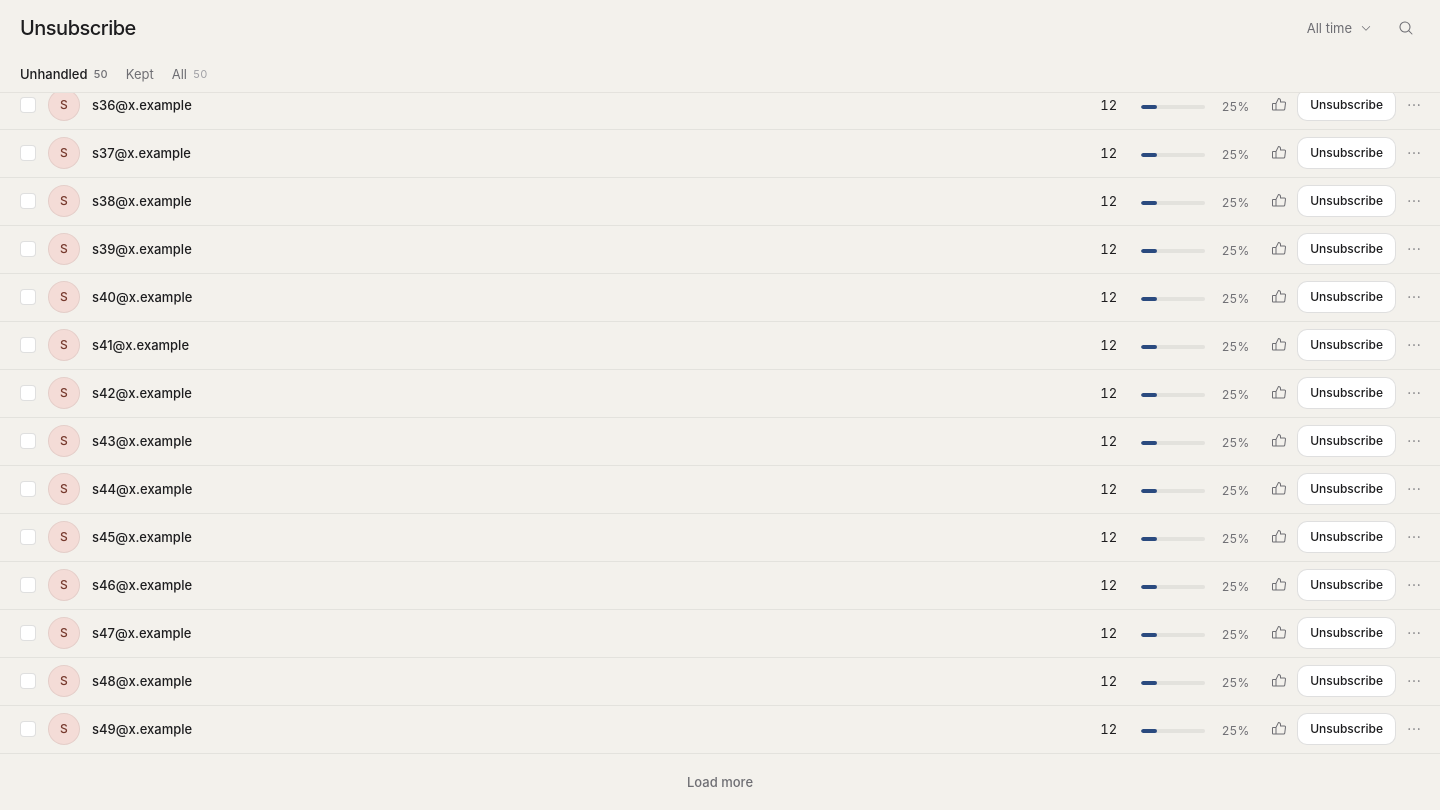
Test: BulkUnsubscribePage › searches by name or address and loads more
(page scrolled)
Click the button "Load more": (720, 782) [675, 766, 765, 798]
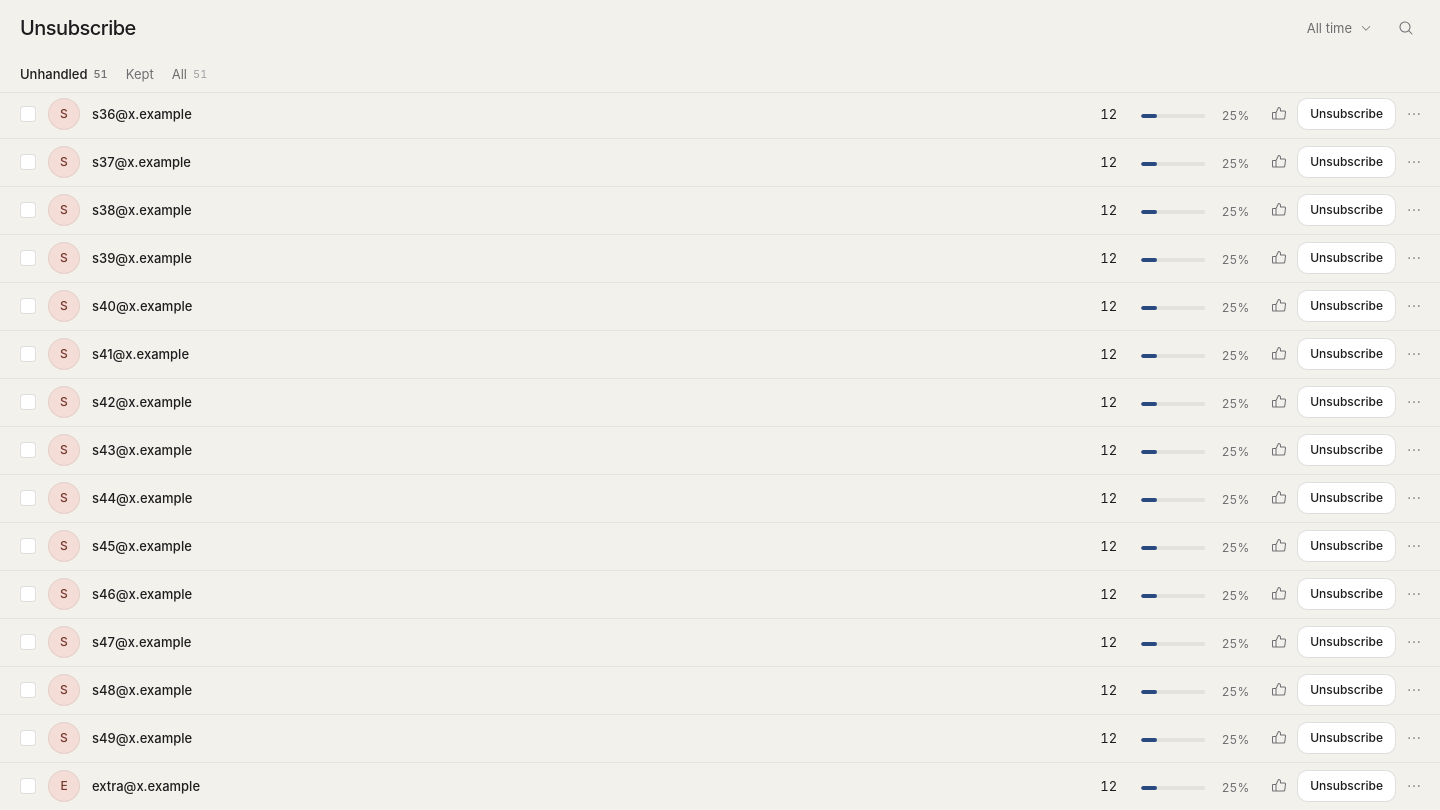
Result: the text "extra@x.example" is shown at [92, 777, 200, 795]
Click the button named "Search": (1406, 28) [1392, 14, 1420, 42]
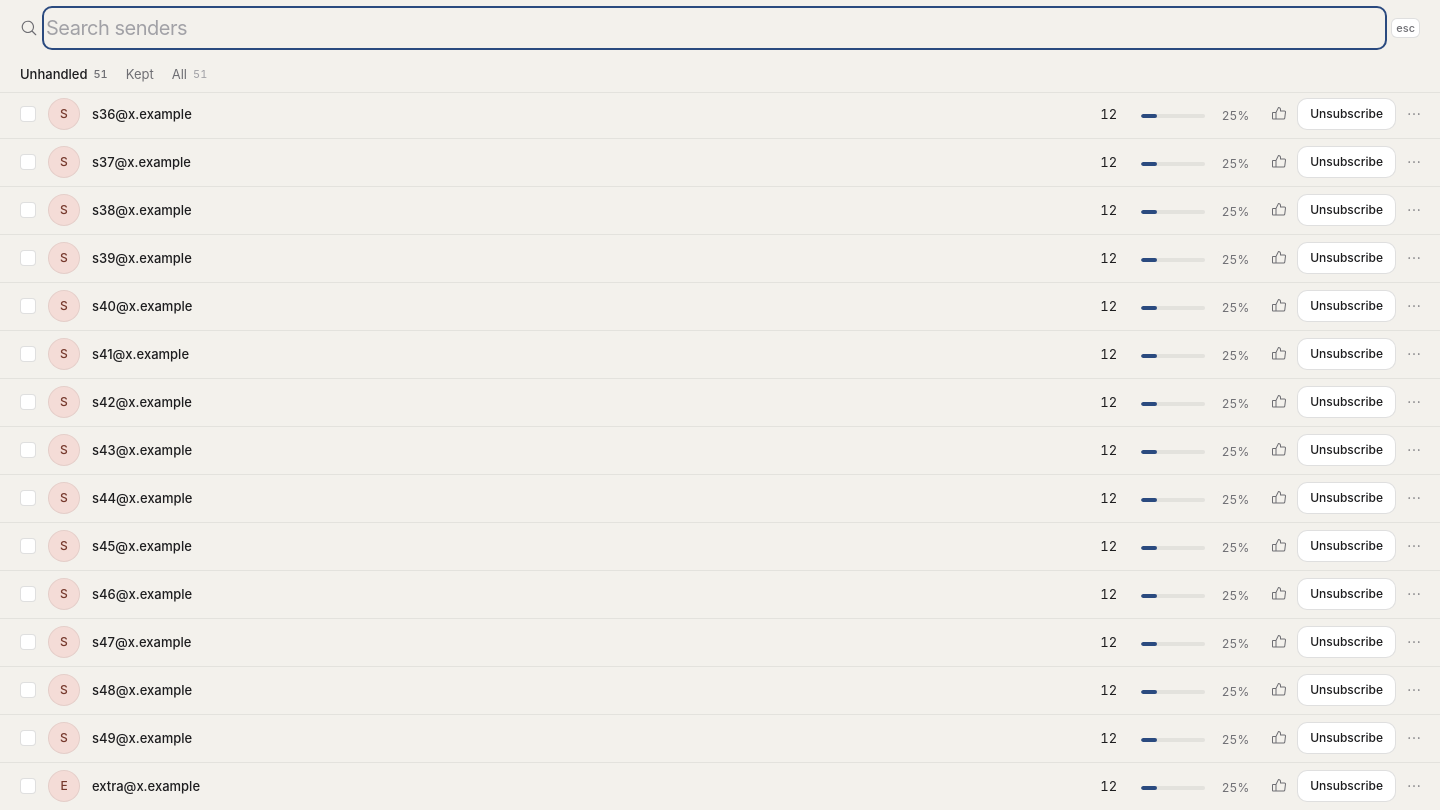
In the search field: (715, 28) [46, 10, 1383, 46], type "digest"
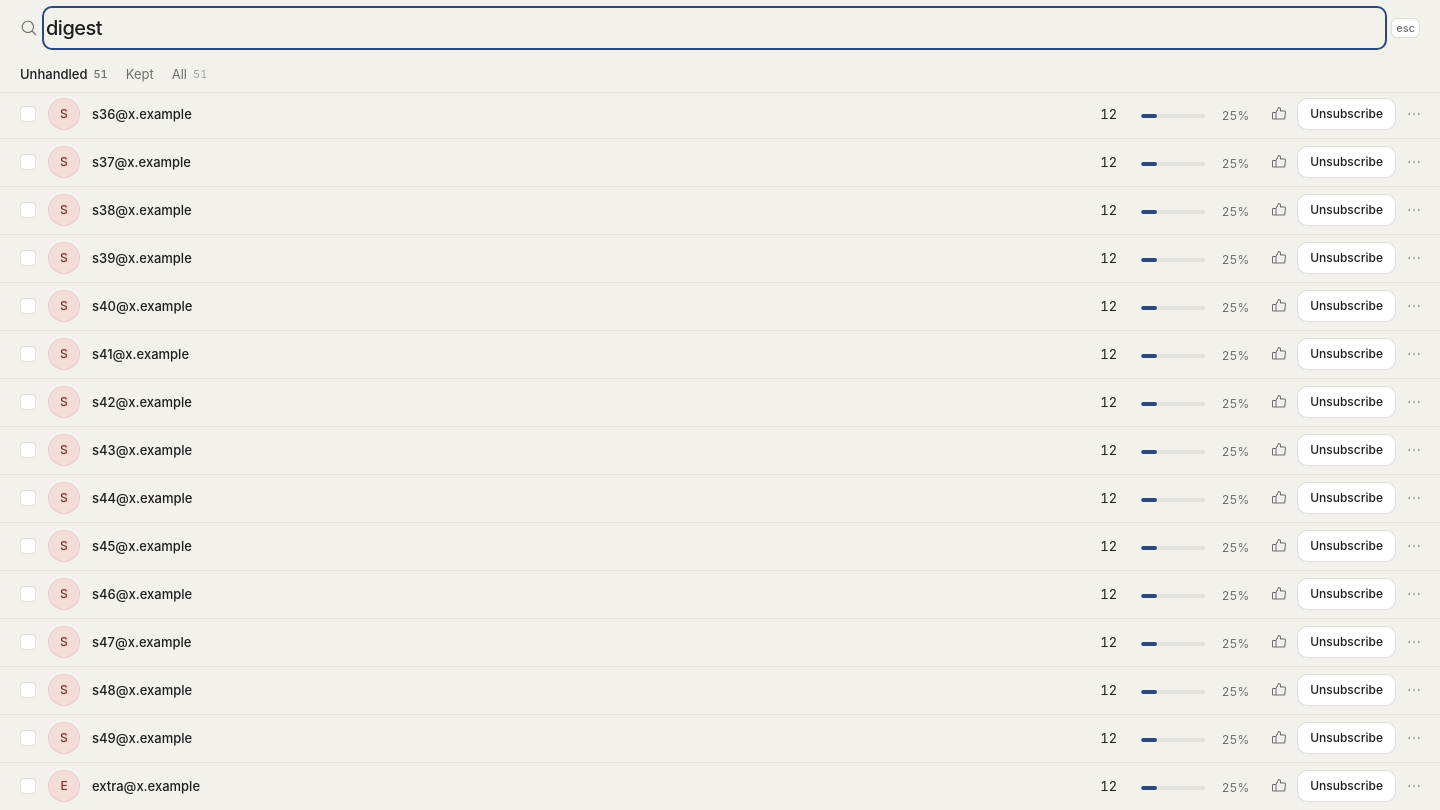
Press Enter in the search field, box [46, 10, 1383, 46]
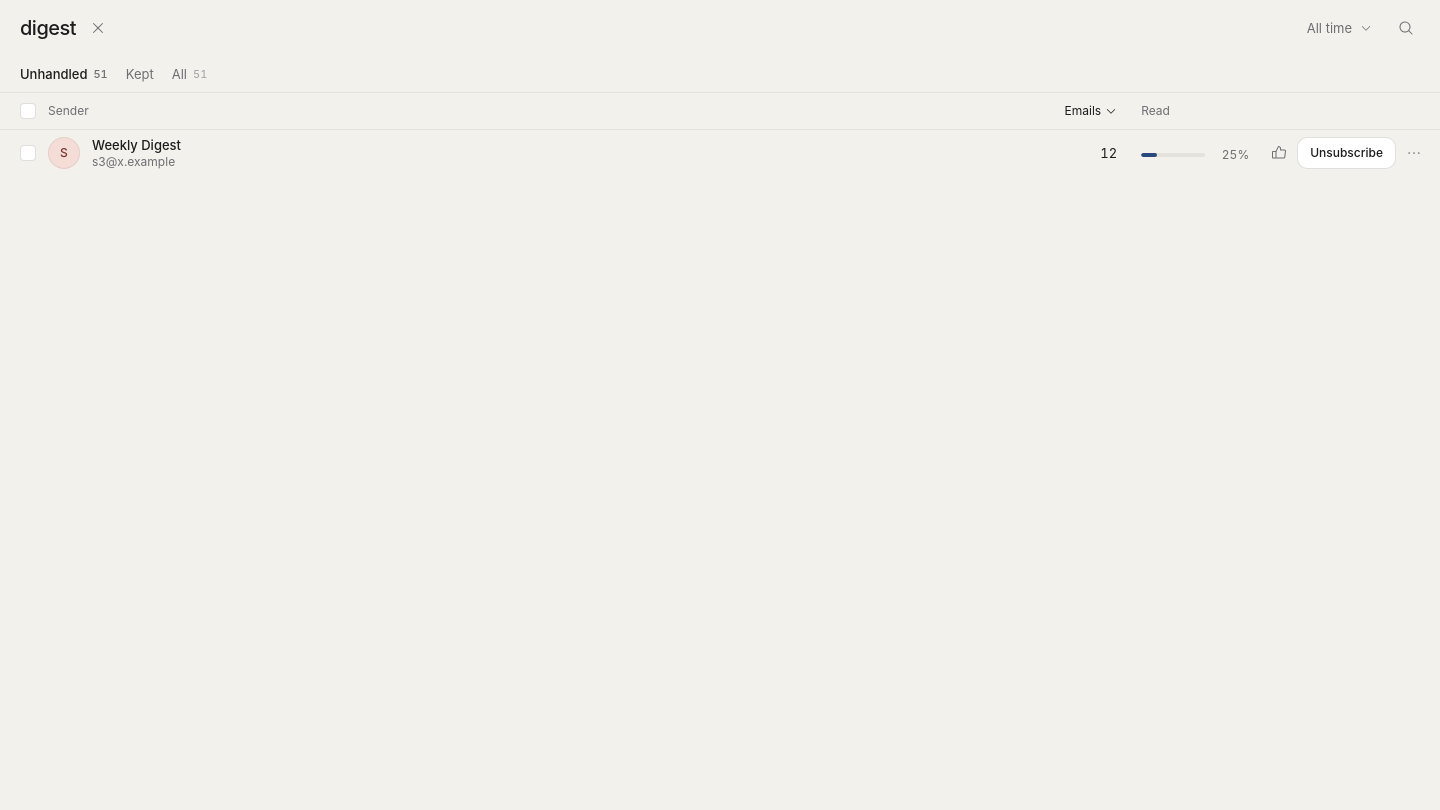
Result: the heading "digest" is shown at [20, 15, 76, 41]
Result: the number of rows is 2 at [0, 93, 1439, 129]; [0, 129, 1439, 177]
Result: the text "Weekly Digest" is shown at [92, 136, 181, 154]
